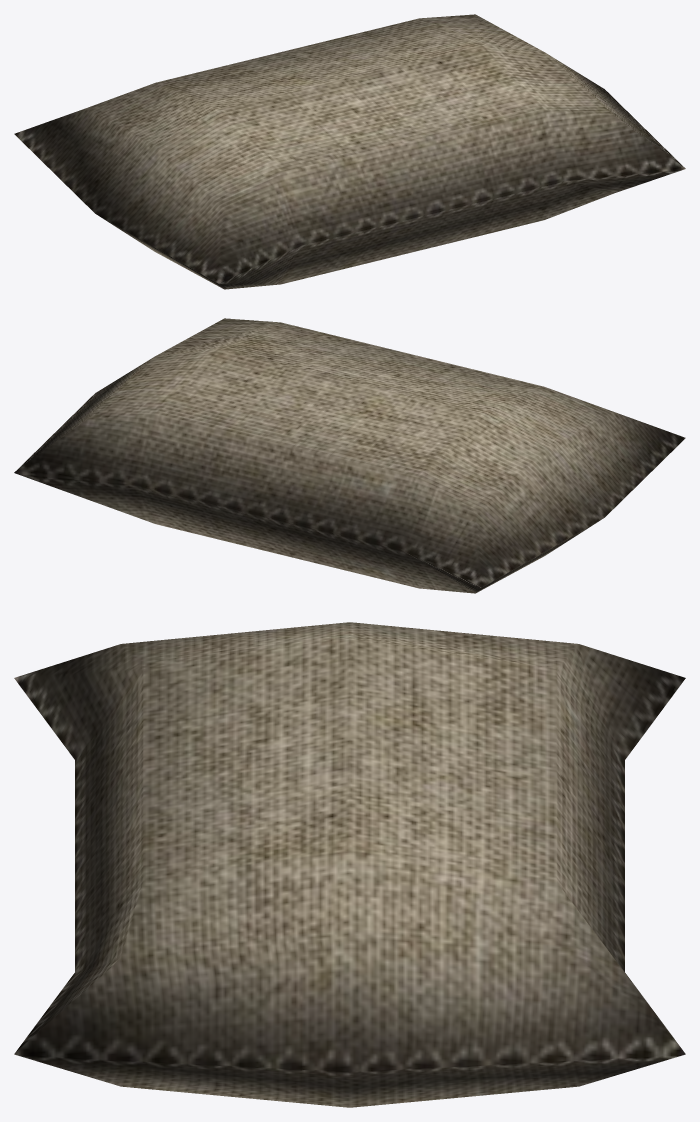
Rendered from Tv_Sack.glb.
The picture shows the model from 3 angles, top to bottom: view 1: azimuth 30°, elevation 25°; view 2: azimuth 150°, elevation 25°; view 3: azimuth 270°, elevation 25°; orthographic projection. The views are drawn at different scales.
Parts seen in each view (by area): view 1: sack; view 2: sack; view 3: sack.
Part boxes in pixels (left/top/right/bottom): sack: left=14, top=14, right=685, bottom=289; sack: left=14, top=318, right=685, bottom=593; sack: left=14, top=622, right=685, bottom=1107.
Size of the model in its own units: 0.9 by 0.2479 by 0.6235.
1 material, 1 textured.
